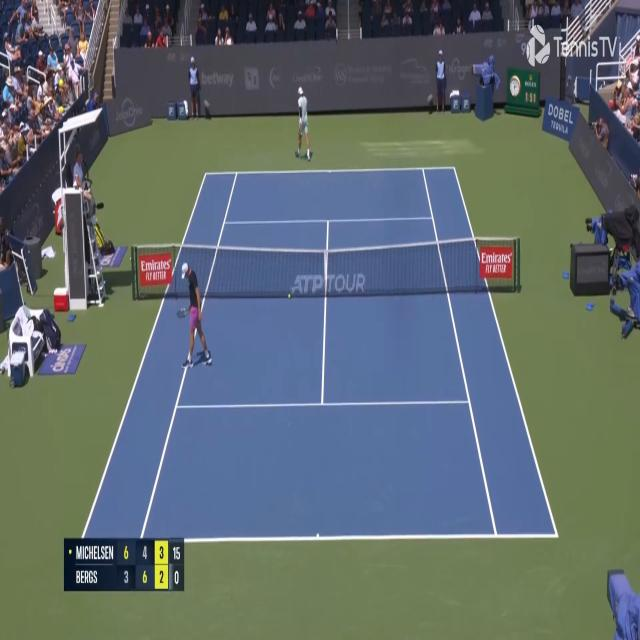tennis-player: (177, 258, 216, 378), (294, 85, 313, 163)
